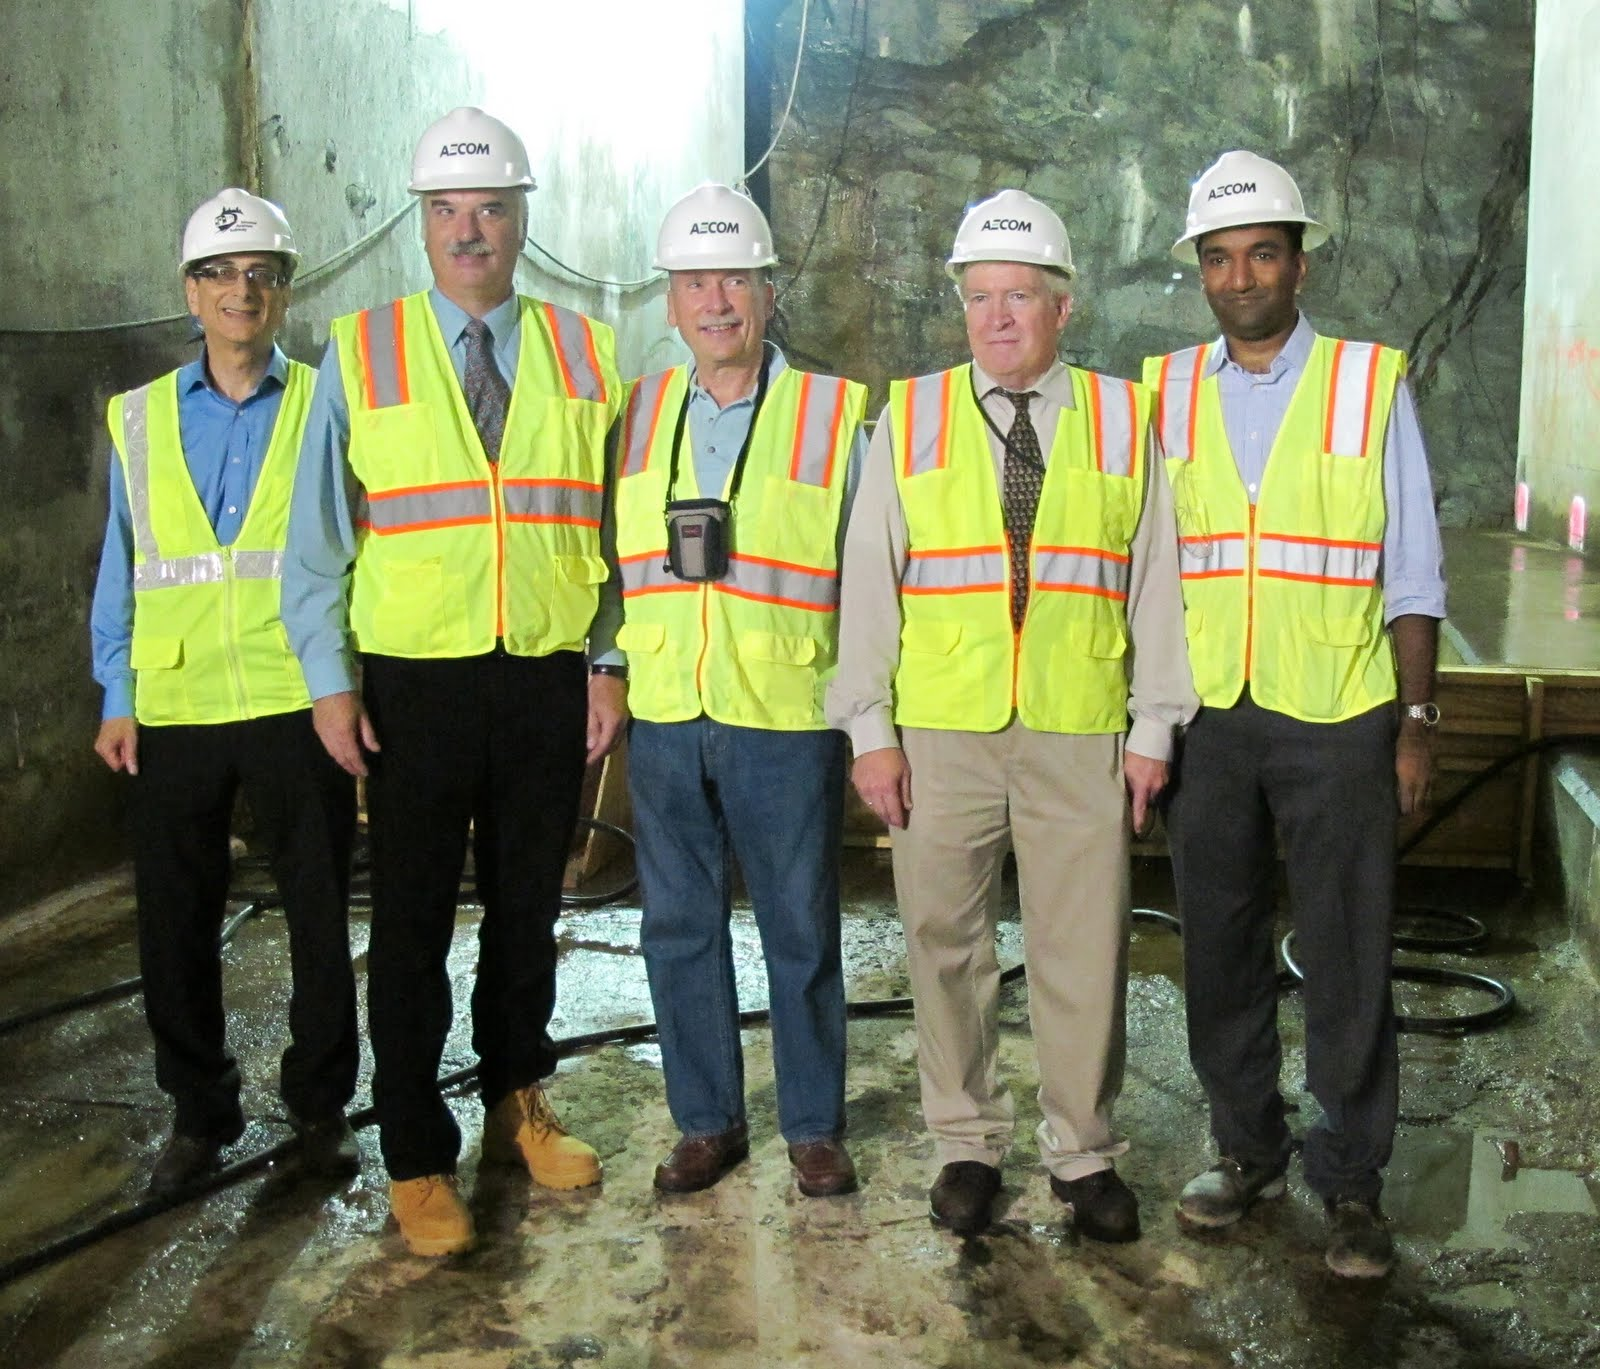Helmet: (1159, 145, 1350, 380), (937, 178, 1096, 401), (398, 98, 547, 318), (638, 181, 797, 380), (164, 179, 315, 365)
Reflective vest: (329, 284, 626, 674), (1142, 331, 1418, 737), (883, 356, 1154, 765), (608, 363, 864, 751), (102, 353, 340, 737)
